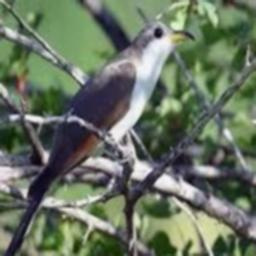Cuckoo: (0, 21, 196, 256)
